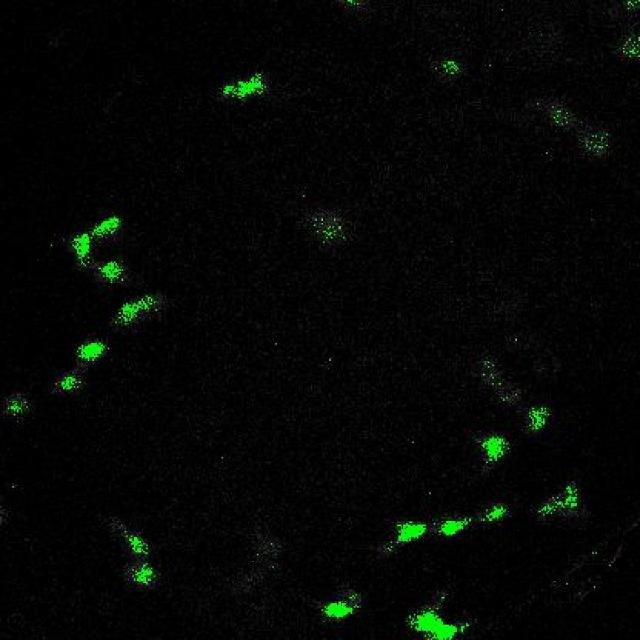Cell: (412, 607, 460, 640), (222, 78, 268, 97), (484, 433, 509, 461), (398, 520, 423, 546), (74, 232, 90, 271), (79, 343, 104, 361), (92, 218, 122, 233), (439, 521, 466, 537), (101, 260, 120, 280)
